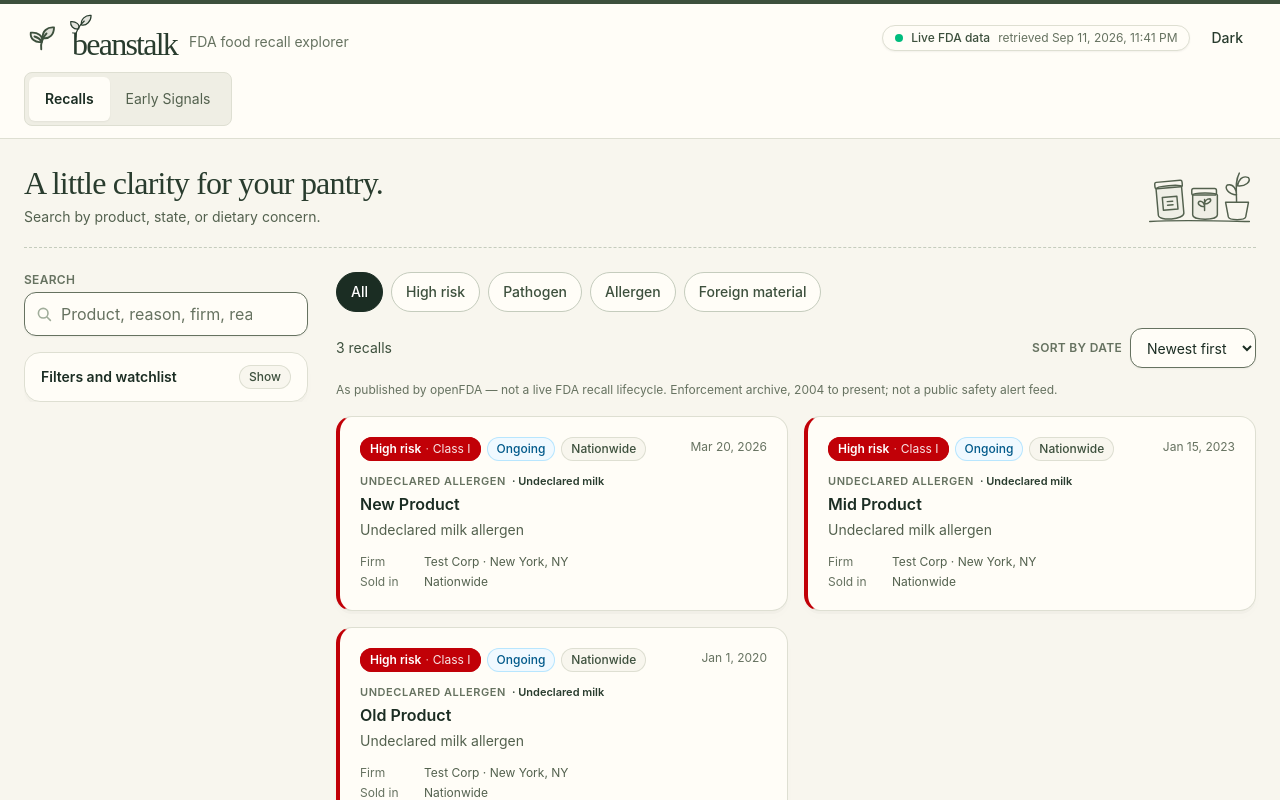
App date sort › reorders listed recalls oldest-first when selected
Step 1. Select "Oldest first" in the dropdown labelled "Sort by date" → (1193, 348), box [1130, 328, 1256, 368]
(page scrolled)
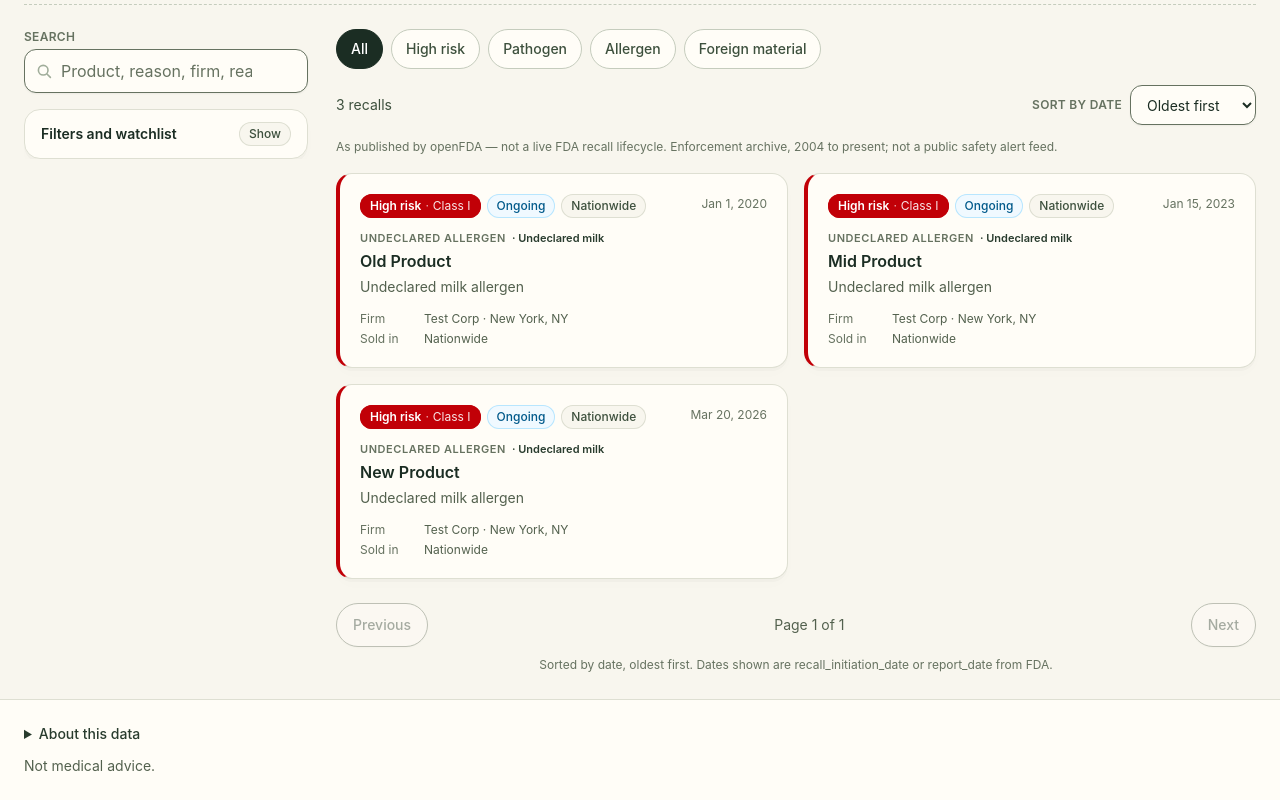
Expected: the text "Sorted by date, oldest first" is shown, [539, 657, 1053, 672]
